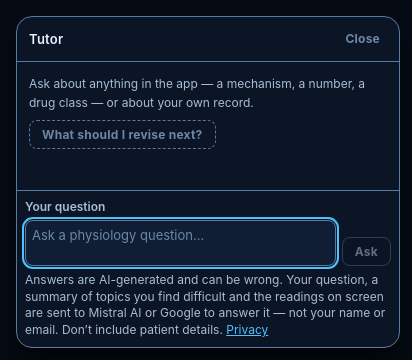
Test: ChatPanel › sends the retrieved excerpts and the learner`s question
Type "how does carbon dioxide change the pH" into the text box labelled "Your question" at (180, 243), box 25,220 -> 336,266
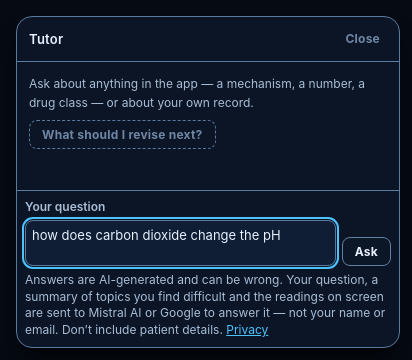
Click the button "Ask" at (366, 251), box 342,237 -> 391,266
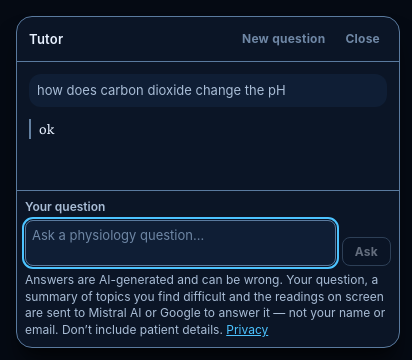
expect the text "how does carbon dioxide change the pH" is shown: met, box 37,82 -> 286,98
